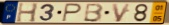3: (38, 3, 57, 23)
8: (133, 3, 150, 22)
B: (82, 2, 105, 23)
H: (15, 2, 40, 23)
P: (61, 3, 83, 23)
V: (111, 3, 133, 23)
